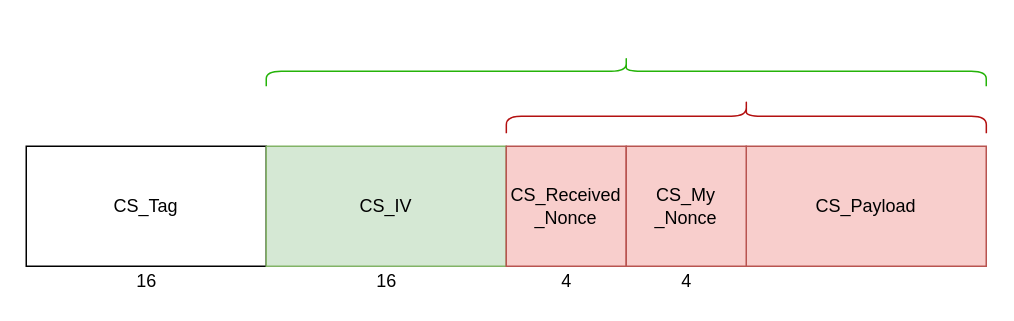
The diagram is 1014 pixels wide and 321 high, and some of its shapes have lost their labels. Here are the shapes that lost their labels. From the top down, the box of each, then its label:
(265, 55, 986, 86): Authenticated
(505, 98, 986, 133): Encrypted
